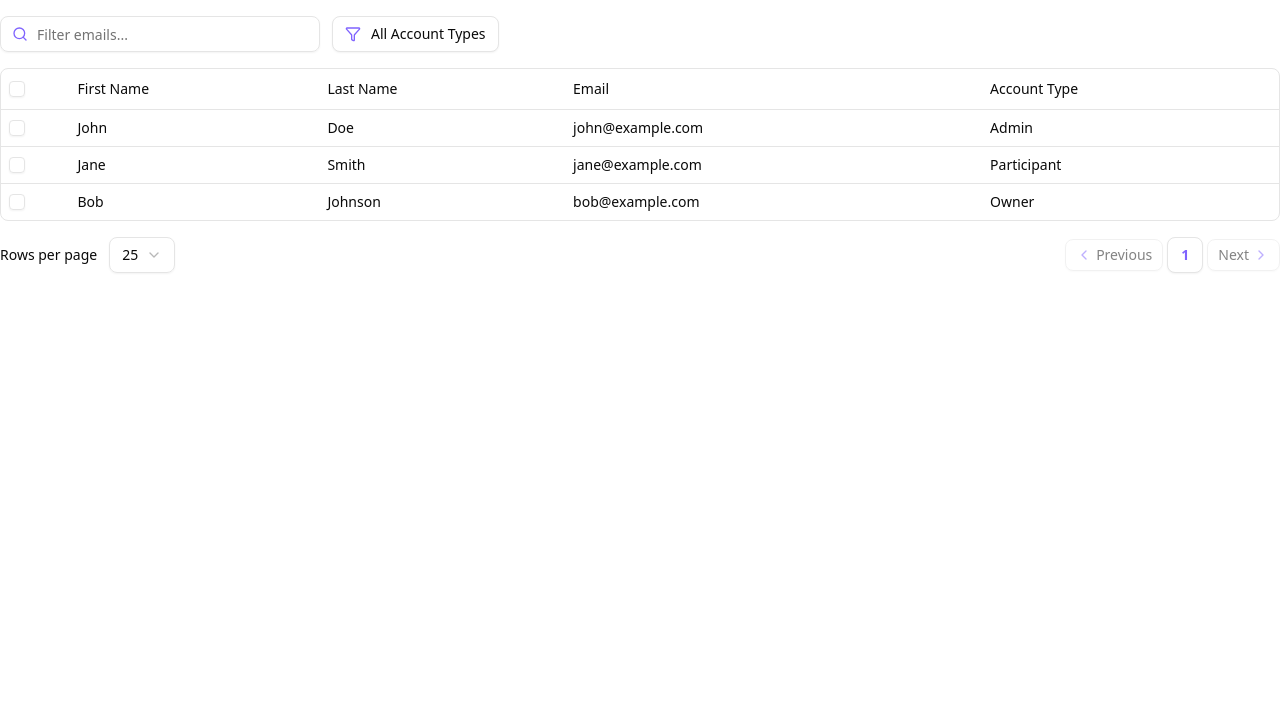
Test: ManageAccountsDataTable › deletion › alert dialog shows the correct warning text
This screenshot has width=1280, height=720.
Click the checkbox named "Select row 0" at (17, 128), box x1=9 y1=120 x2=25 y2=136
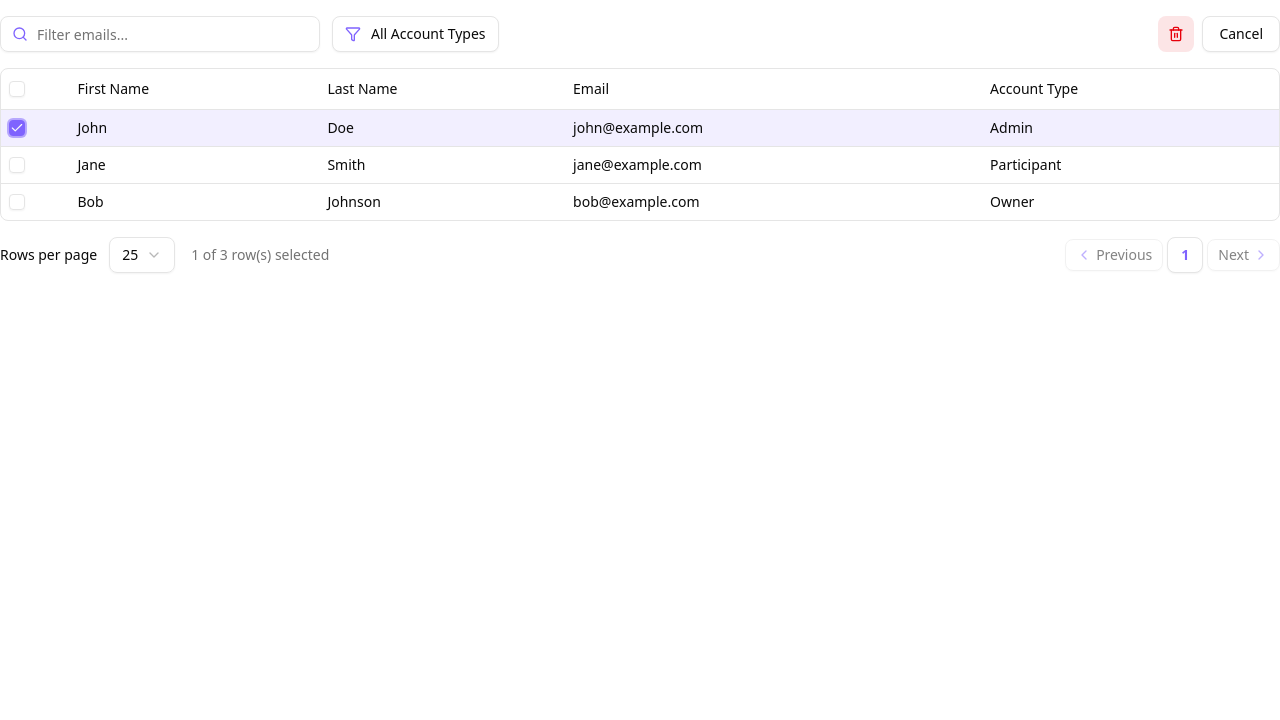
Click the 2nd button at (1176, 34), box x1=1158 y1=16 x2=1194 y2=52
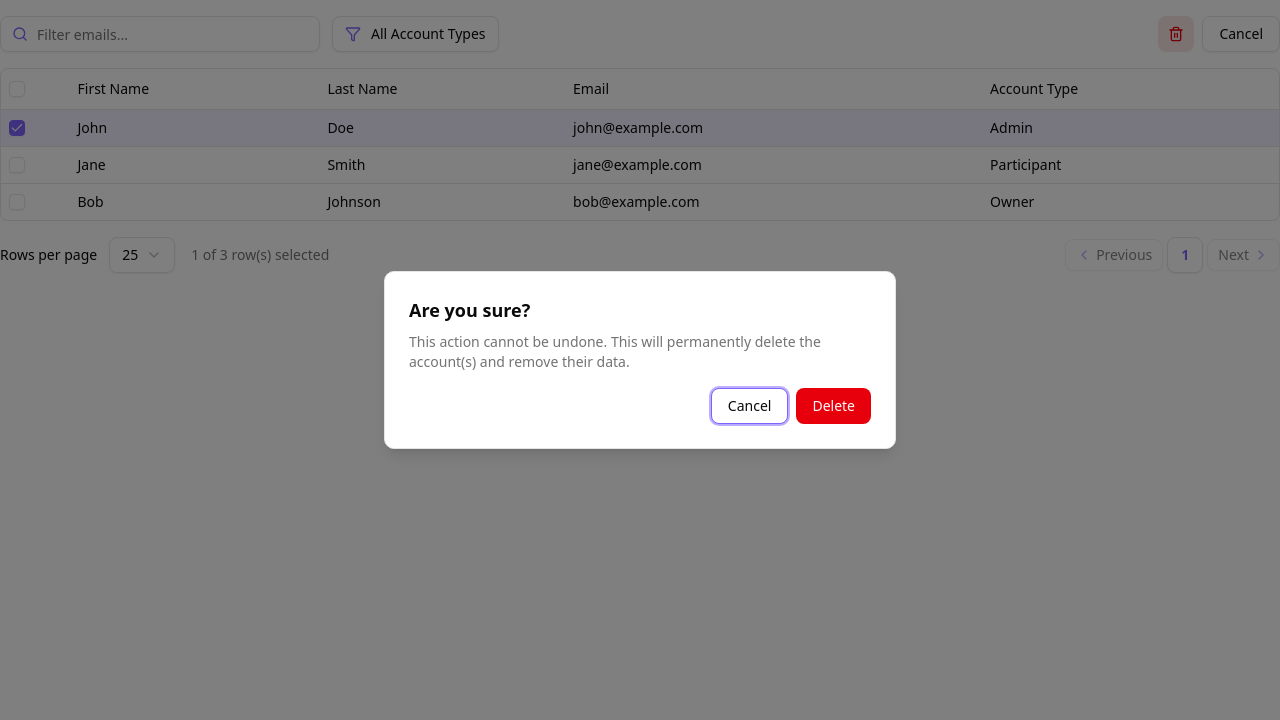
Result: the heading "Are you sure?" is shown at x1=409 y1=298 x2=530 y2=322
Result: the text "cannot be undone" is shown at x1=409 y1=332 x2=821 y2=371
